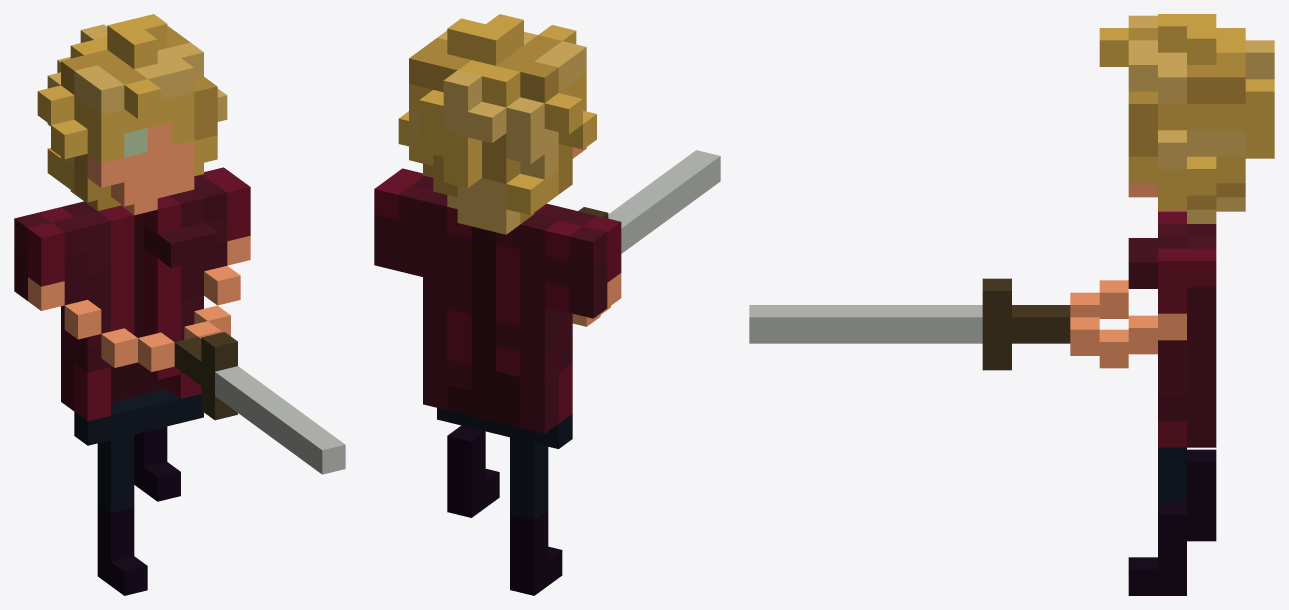
Rendered from SwingingBoyCharacter-5.obj.
3 views of the same model, side by side, from view 1: azimuth 30°, elevation 25°; view 2: azimuth 150°, elevation 25°; view 3: azimuth 270°, elevation 25° (orthographic). The views are drawn at different scales.
Visible parts, largest first — view 1: SwingingBoyCharacter-5; view 2: SwingingBoyCharacter-5; view 3: SwingingBoyCharacter-5.
Part boxes in pixels (x1,y1,x2,y2): SwingingBoyCharacter-5: (14, 14, 345, 595); SwingingBoyCharacter-5: (374, 14, 720, 595); SwingingBoyCharacter-5: (749, 14, 1274, 595).
Bounding box in the file's own units: 9 × 22 × 18.
Materials: 1 (1 with a texture image).
